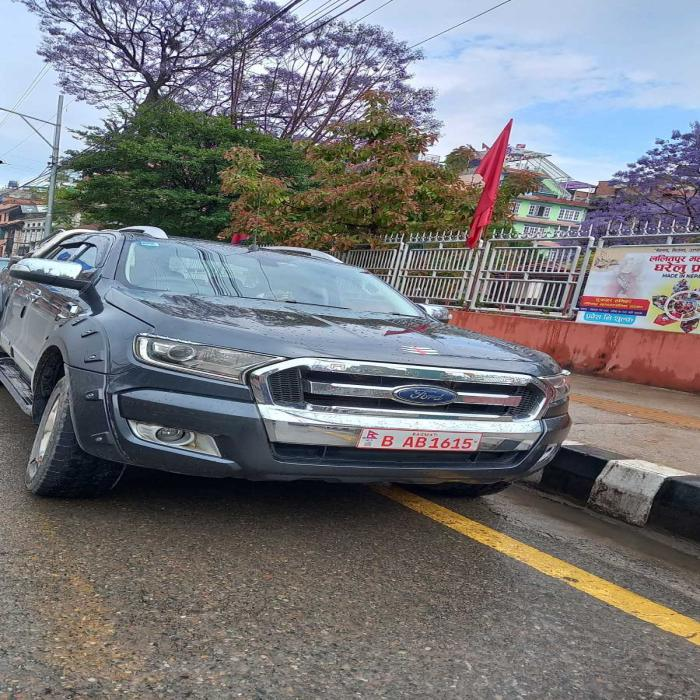number_plate: (360, 430, 478, 450)
